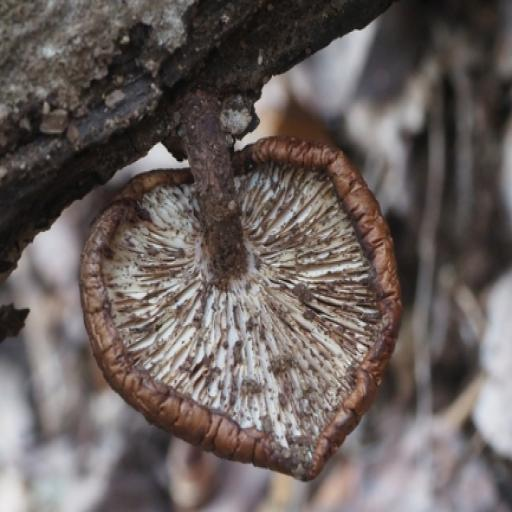Shiitake Mushroom: (58, 127, 433, 485)
